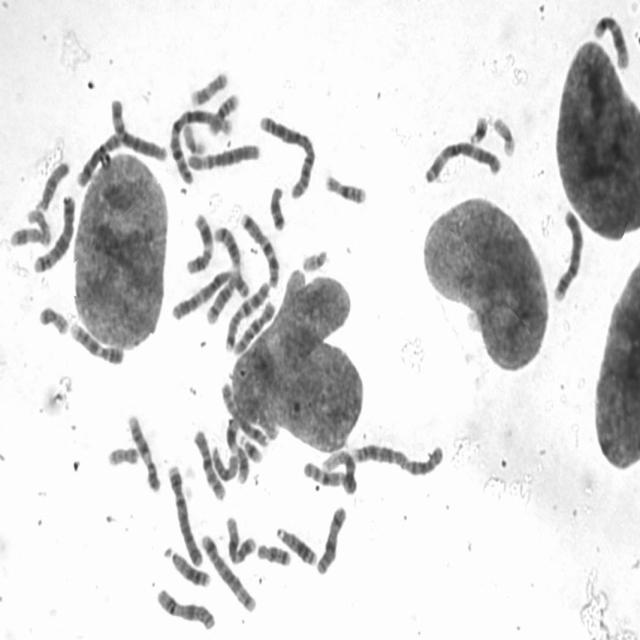A1: (164, 99, 236, 183), (299, 444, 358, 494)
A2: (255, 108, 317, 200), (346, 434, 446, 477)
A3: (167, 262, 252, 322), (419, 134, 504, 186)
B4: (164, 458, 204, 567), (548, 203, 586, 303)
B5: (196, 527, 258, 614), (29, 188, 77, 275)
C10: (228, 293, 277, 356), (189, 423, 227, 502)
C11: (181, 206, 215, 276), (222, 411, 250, 485)
C12: (590, 8, 631, 70), (221, 508, 258, 566)
C6: (106, 90, 168, 162), (183, 136, 261, 172)
C7: (222, 274, 272, 354), (236, 205, 281, 288)
C8: (217, 376, 271, 448), (73, 127, 124, 189)
C9: (123, 407, 162, 493), (66, 314, 126, 367)
D13: (164, 542, 212, 588), (272, 520, 318, 568)
D14: (205, 263, 244, 333), (209, 222, 245, 294)
D15: (31, 154, 71, 212), (208, 440, 240, 482)
E16: (320, 166, 369, 205), (204, 86, 241, 136)
E17: (186, 64, 230, 107), (6, 219, 52, 248)
E18: (253, 536, 292, 568), (265, 178, 288, 232)
F19: (489, 110, 517, 158), (179, 118, 208, 156)
F20: (34, 299, 70, 336), (103, 439, 140, 468)
G21: (236, 428, 264, 464), (464, 108, 491, 145)
G22: (298, 242, 330, 273), (25, 206, 51, 235)
X: (152, 582, 218, 631), (312, 499, 348, 576)
